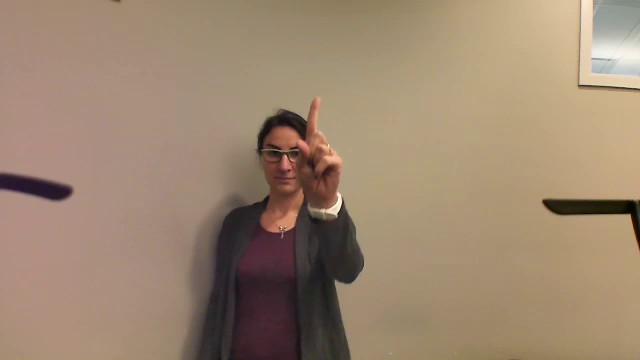up: (286, 91, 350, 214)
